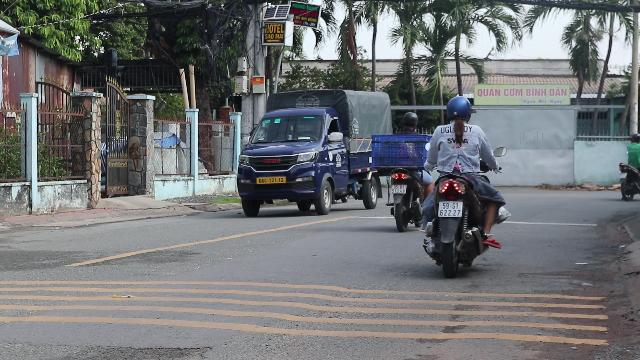helmet: (445, 96, 473, 122), (400, 112, 418, 131)
licenseplate: (438, 202, 462, 217), (392, 185, 406, 194)
motorcyclist: (420, 93, 508, 274), (368, 110, 429, 229)
